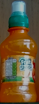orange: (1, 1, 37, 102)
